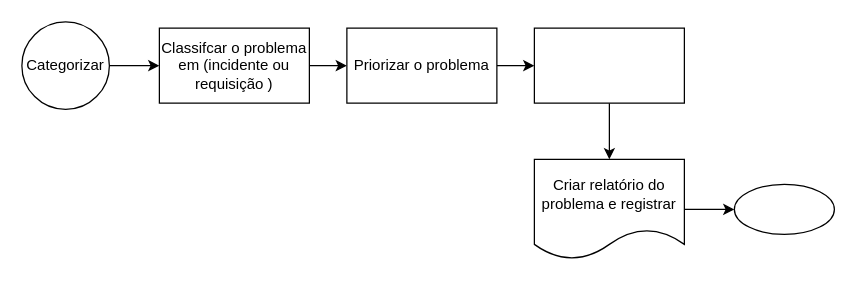
This 856x281 diagram has some shape labels left out. Here are the shapes that lost their labels. From the top down, the centre of each, then its label:
the point at 608,65: especie do problema (hardware ou software)
the point at 783,208: Fim
